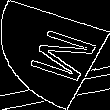M_SE: (13, 24, 97, 86)
